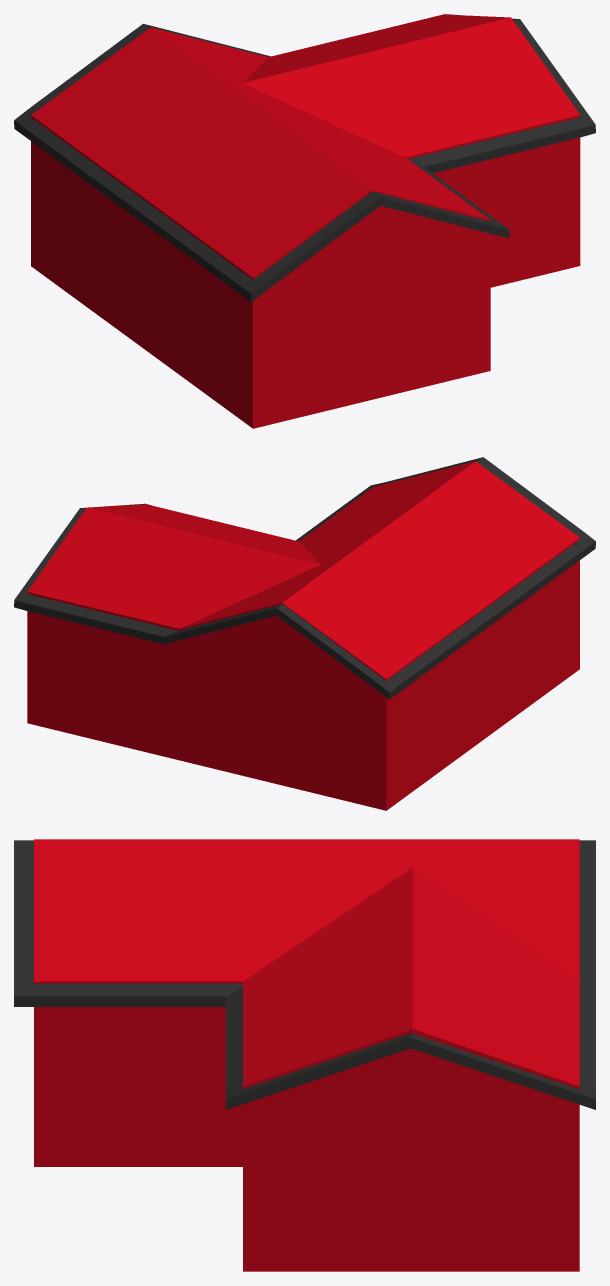
The model's file is house1.fbx.
3 views of the same model, one above another, from view 1: azimuth 30°, elevation 25°; view 2: azimuth 150°, elevation 25°; view 3: azimuth 270°, elevation 25° (orthographic). The views are drawn at different scales.
Parts seen in each view (by area): view 1: boundingBox1, boundingBox2, house; view 2: boundingBox1, boundingBox2, house; view 3: boundingBox2, boundingBox1, house.
Part boxes in pixels (box(x1,y1,x2,y2)): boundingBox1: box(31, 27, 490, 428); boundingBox2: box(242, 14, 580, 287); house: box(14, 14, 595, 302); boundingBox1: box(180, 461, 579, 810); boundingBox2: box(27, 504, 320, 787); house: box(14, 457, 595, 699); boundingBox2: box(243, 868, 579, 1271); boundingBox1: box(34, 839, 579, 1166); house: box(14, 840, 595, 1109).
Size of the model in its own units: 379 by 177 by 361.
